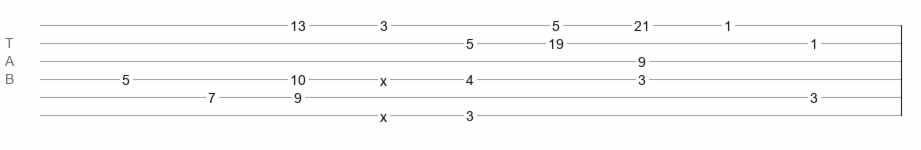1: (724, 18, 732, 28), (810, 36, 818, 46)
10: (290, 72, 306, 82)
13: (290, 18, 306, 28)
19: (548, 36, 564, 46)
21: (634, 18, 650, 28)
3: (380, 18, 388, 28), (466, 108, 474, 118), (638, 72, 646, 82), (810, 90, 818, 100)
4: (466, 72, 474, 82)
5: (122, 72, 130, 82), (466, 36, 474, 46), (552, 18, 560, 28)
7: (208, 90, 216, 100)
9: (294, 90, 302, 100), (638, 54, 646, 64)
x: (380, 109, 387, 117), (380, 73, 387, 81)
